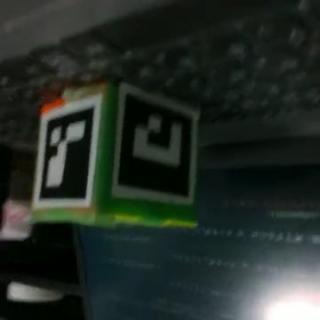armor: (112, 84, 199, 206), (34, 95, 100, 210)
robot: (32, 77, 200, 229)
